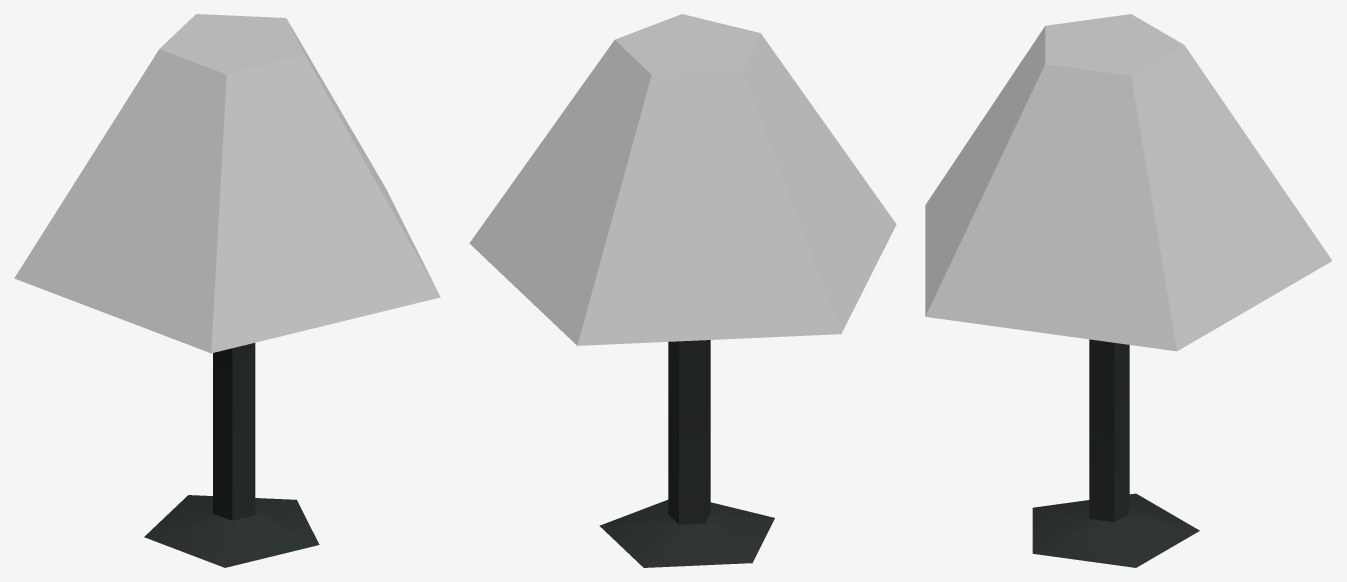
Rendered from Lamp_On.glb.
3 renders of one model, left to right at view 1: azimuth 30°, elevation 25°; view 2: azimuth 150°, elevation 25°; view 3: azimuth 270°, elevation 25°, orthographic.
Visible parts, largest first — view 1: lamp_On; view 2: lamp_On; view 3: lamp_On.
Boxes of the visible parts, left/top/right/bottom form: lamp_On: left=14, top=14, right=440, bottom=567; lamp_On: left=469, top=14, right=896, bottom=567; lamp_On: left=925, top=14, right=1332, bottom=567.
Size of what is drawn, in the model's own units: 0.4048 by 0.5068 by 0.385.
2 materials, 2 textured.
